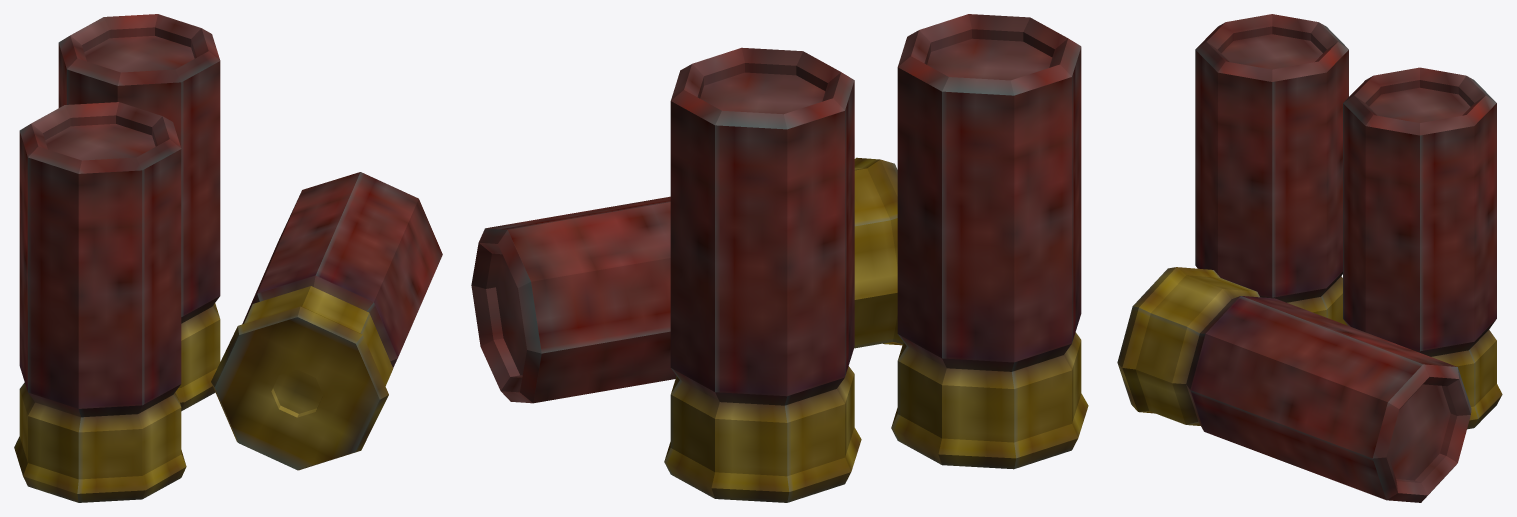
The picture shows the model from 3 angles, left to right: view 1: azimuth 30°, elevation 25°; view 2: azimuth 150°, elevation 25°; view 3: azimuth 270°, elevation 25°; orthographic projection. The views are drawn at different scales.
Visible parts, largest first — view 1: shotgun_ammo_1; view 2: shotgun_ammo_1; view 3: shotgun_ammo_1.
Boxes of the visible parts, x1=… form: shotgun_ammo_1: x1=14, y1=14, x2=442, y2=502; shotgun_ammo_1: x1=471, y1=14, x2=1088, y2=502; shotgun_ammo_1: x1=1117, y1=14, x2=1502, y2=502.
Size of the model in its own units: 0.1254 by 0.0852 by 0.096.
Materials: 1 (1 with a texture image).
